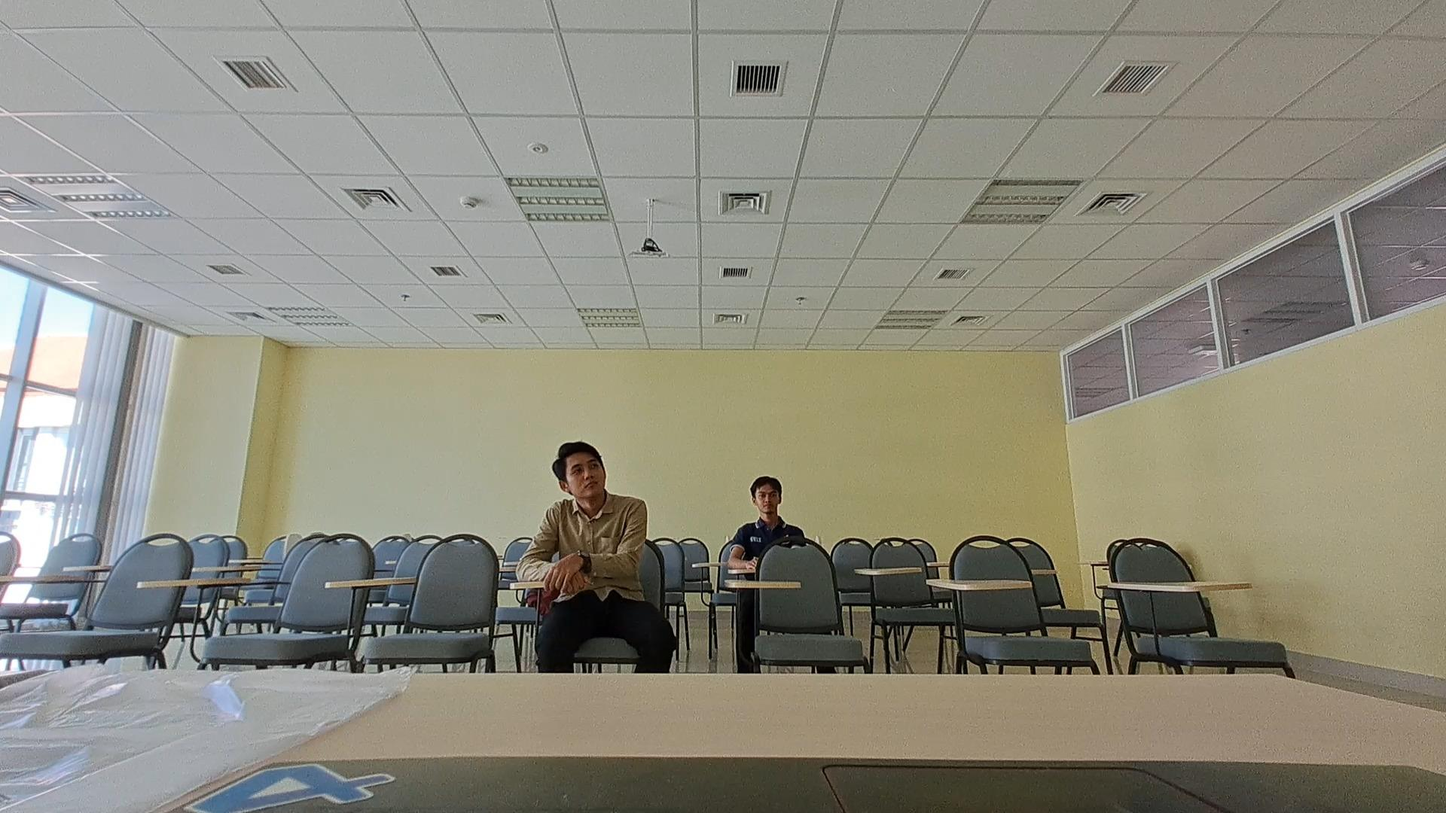study: (516, 440, 670, 670), (723, 461, 808, 576)
